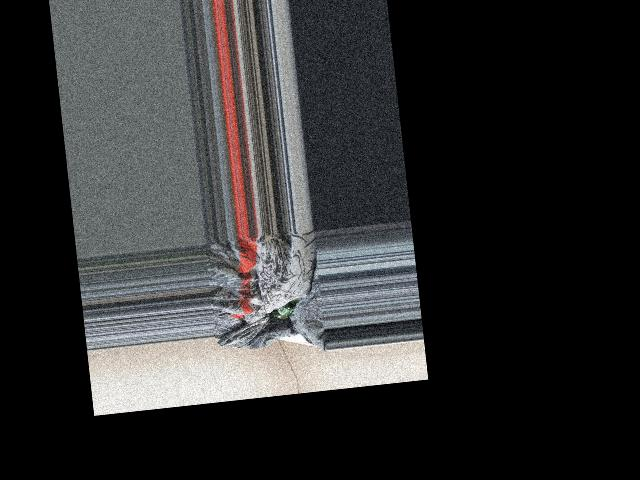beer: (267, 300, 298, 322)
